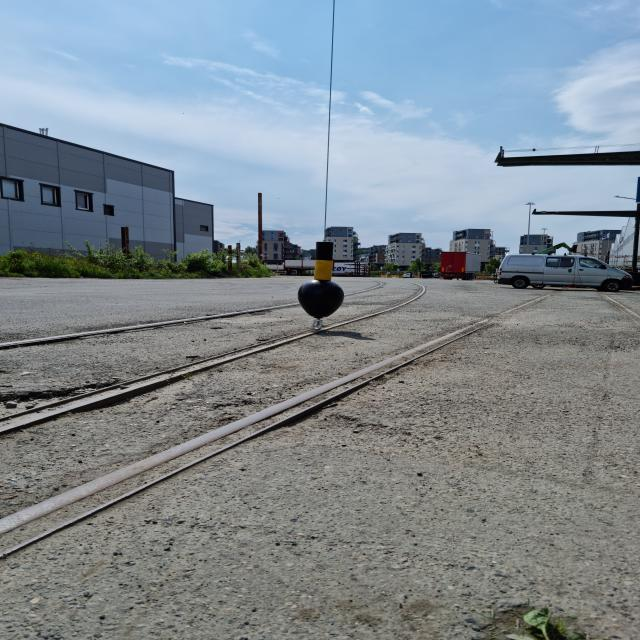east: (298, 242, 345, 319)
